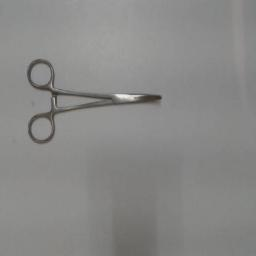Crile Artery Forceps: (26, 54, 164, 144)
